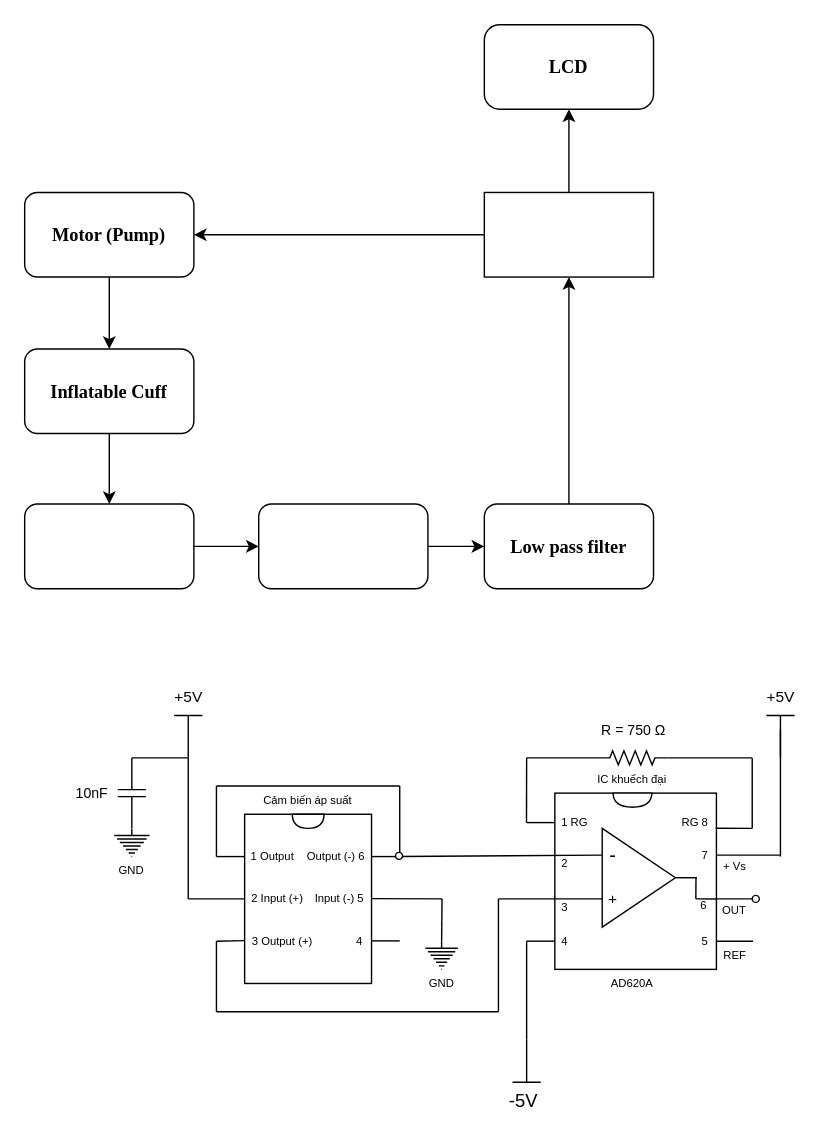
Image size: 819x1139. Some labels were removed from this diagram. Each missing label, with the centre of its shape:
Amplifier: point (342, 546)
Microcontroller: point (568, 234)
Pressure Sensor: point (108, 546)
